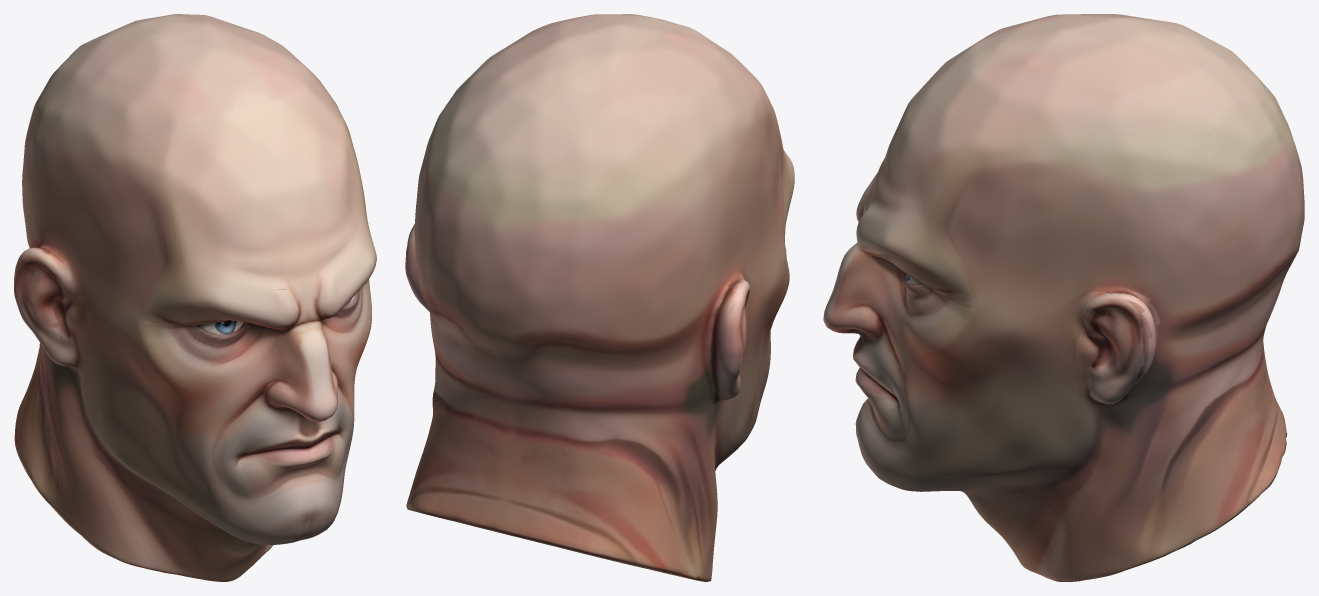
The picture shows the model from 3 angles, left to right: view 1: azimuth 30°, elevation 25°; view 2: azimuth 150°, elevation 25°; view 3: azimuth 270°, elevation 25°; orthographic projection. The views are drawn at different scales.
Visible parts, largest first — view 1: Mesh0; view 2: Mesh0; view 3: Mesh0.
Boxes of the visible parts, x1,y1,x2,y2 form: Mesh0: [14, 14, 376, 581]; Mesh0: [405, 14, 794, 581]; Mesh0: [823, 14, 1304, 581].
Bounding box in the file's own units: 121 × 191 × 156.
Materials: 1 (1 with a texture image).
